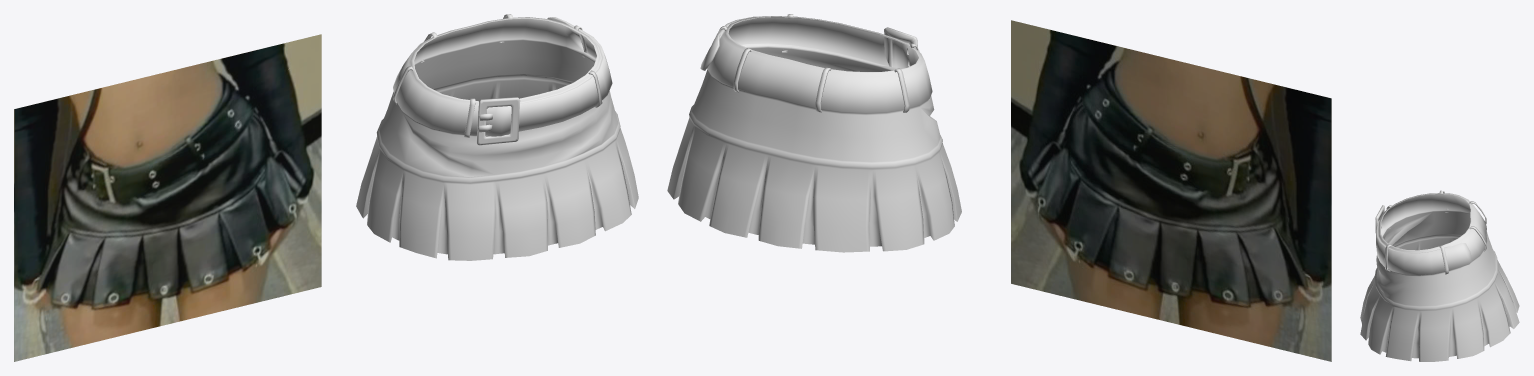
The model's file is Pleated_Leather_Skirt_w_Rivets_Belts_(Nm).fbx.
3 renders of one model, left to right at view 1: azimuth 30°, elevation 25°; view 2: azimuth 150°, elevation 25°; view 3: azimuth 270°, elevation 25°, orthographic. The views are drawn at different scales.
Visible parts, largest first — view 1: Plane001, Pleated_Leather_Skirt_w_Rivets_Belts_(Nm); view 2: Plane001, Pleated_Leather_Skirt_w_Rivets_Belts_(Nm); view 3: Pleated_Leather_Skirt_w_Rivets_Belts_(Nm).
Boxes of the visible parts, bbox=[...] form: Plane001: bbox=[14, 34, 321, 361]; Pleated_Leather_Skirt_w_Rivets_Belts_(Nm): bbox=[356, 14, 638, 260]; Plane001: bbox=[1011, 20, 1331, 361]; Pleated_Leather_Skirt_w_Rivets_Belts_(Nm): bbox=[667, 14, 961, 252]; Pleated_Leather_Skirt_w_Rivets_Belts_(Nm): bbox=[1360, 190, 1519, 361].
Bounding box in the file's own units: 36.31 × 14.25 × 12.05.
1 material, 1 textured.
